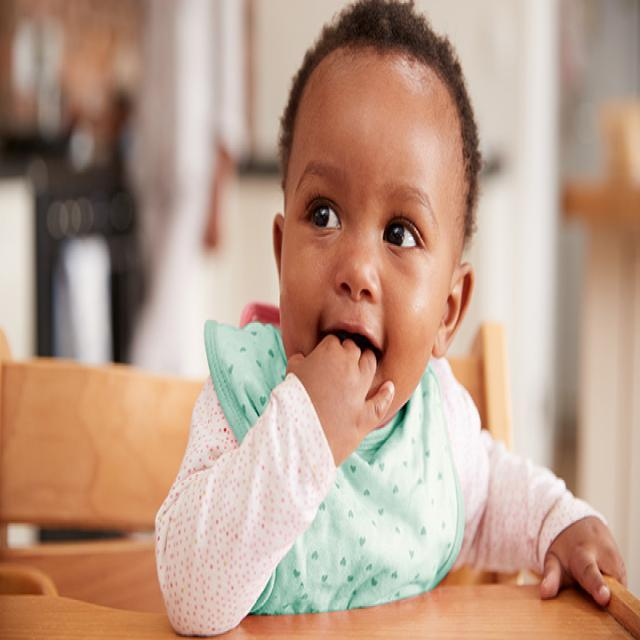non-dog: (144, 1, 627, 625)
